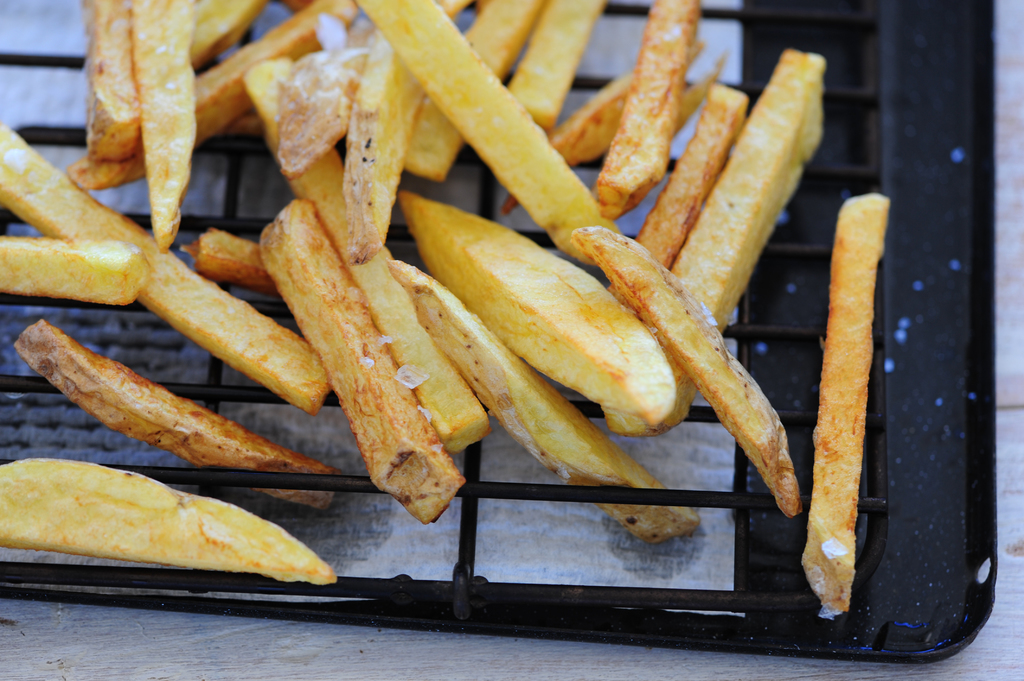French fries: (0, 0, 894, 626)
